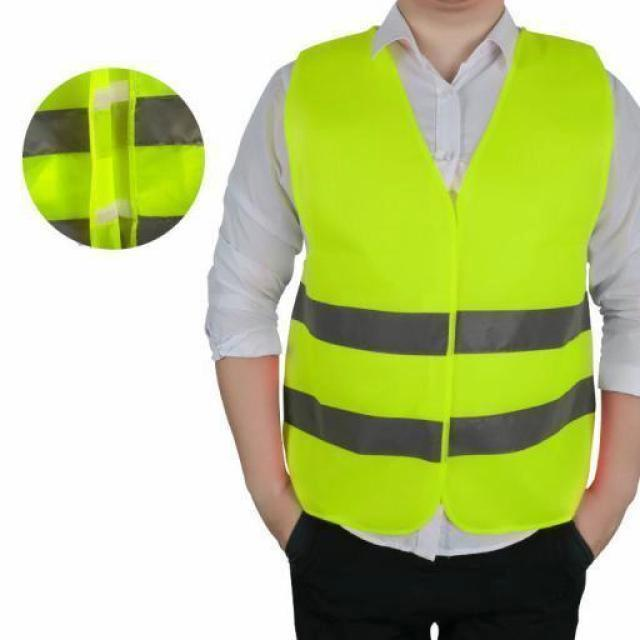vest: (278, 40, 608, 515)
